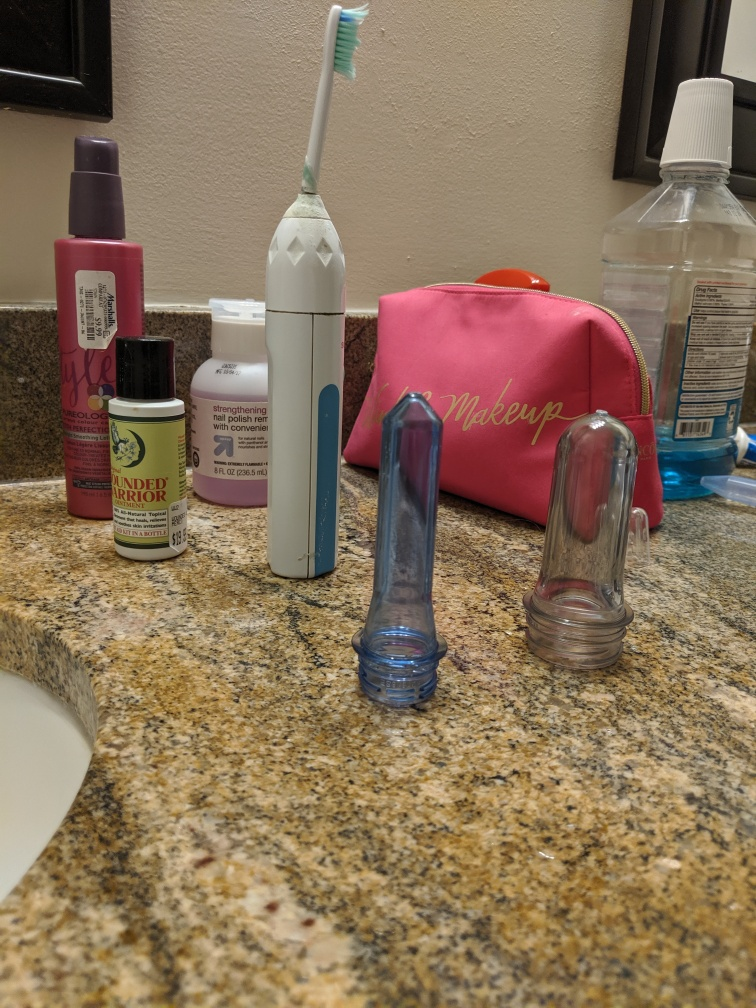preform: (348, 382, 456, 724), (518, 407, 640, 678)
